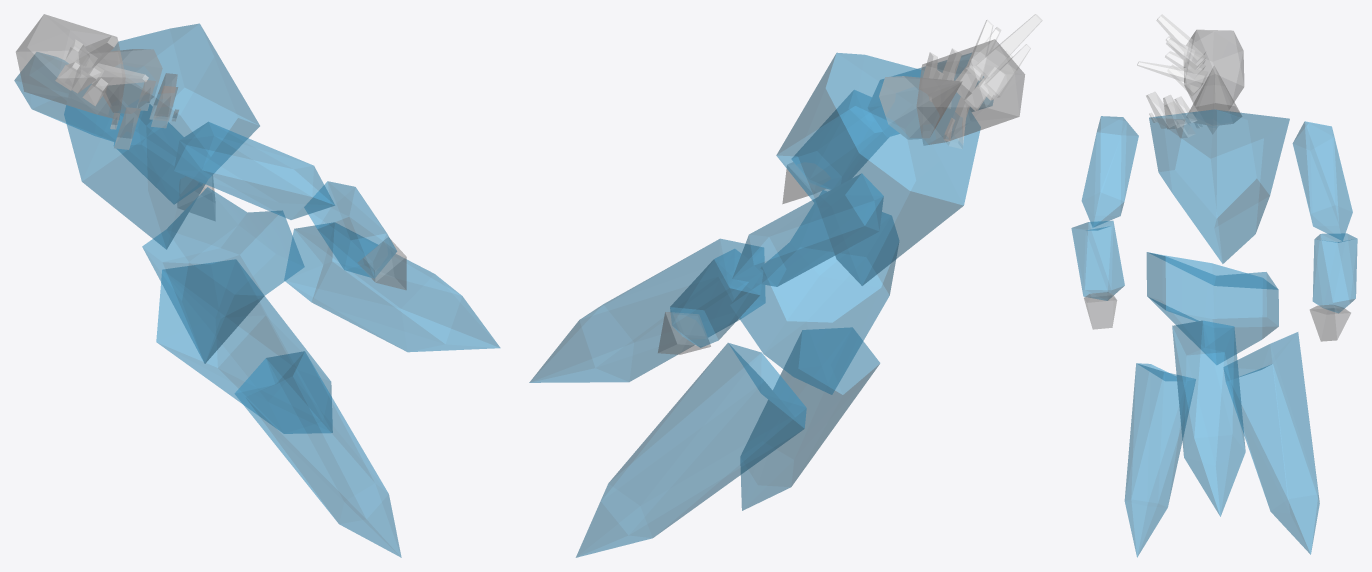
Rendered from ghostLunge.obj.
The picture shows the model from 3 angles, left to right: view 1: azimuth 30°, elevation 25°; view 2: azimuth 150°, elevation 25°; view 3: azimuth 270°, elevation 25°; orthographic projection. The views are drawn at different scales.
Parts seen in each view (by area): view 1: Cube.001_Cube.005, Icosphere.014, Cube_Cube.005, Icosphere.013, Icosphere.012, Icosphere.005_Icosphere.004, Icosphere.003_Icosphere.004, Icosphere.006_Icosphere.004, Icosphere.007_Icosphere.004, Icosphere.008_Icosphere.004, Cone_Cone.005, Cube.002_Cube.005 (+5 smaller); view 2: Cube.001_Cube.005, Icosphere.014, Cube_Cube.005, Icosphere.013, Icosphere.012, Icosphere.007_Icosphere.004, Icosphere.003_Icosphere.004, Icosphere.008_Icosphere.004, Icosphere.006_Icosphere.004, Cone_Cone.005, Cube.003_Cube.005, Cube.009_Cube.004 (+4 smaller); view 3: Cube.001_Cube.005, Icosphere.014, Icosphere.013, Cube_Cube.005, Icosphere.012, Icosphere.007_Icosphere.004, Icosphere.003_Icosphere.004, Icosphere.005_Icosphere.004, Icosphere.006_Icosphere.004, Icosphere.008_Icosphere.004, Cone_Cone.005, Cube.003_Cube.005 (+6 smaller).
Boxes of the visible parts, x1=… form: Cube.001_Cube.005: x1=64, y1=23, x2=259, y2=249; Icosphere.014: x1=156, y1=259, x2=332, y2=433; Cube_Cube.005: x1=142, y1=187, x2=304, y2=363; Icosphere.013: x1=284, y1=222, x2=500, y2=352; Icosphere.012: x1=234, y1=351, x2=401, y2=557; Icosphere.005_Icosphere.004: x1=174, y1=121, x2=334, y2=219; Icosphere.003_Icosphere.004: x1=16, y1=14, x2=125, y2=119; Icosphere.006_Icosphere.004: x1=304, y1=181, x2=396, y2=278; Icosphere.007_Icosphere.004: x1=14, y1=52, x2=140, y2=141; Icosphere.008_Icosphere.004: x1=114, y1=104, x2=202, y2=203; Cone_Cone.005: x1=99, y1=49, x2=162, y2=113; Cube.002_Cube.005: x1=358, y1=237, x2=406, y2=289; Cube.001_Cube.005: x1=776, y1=52, x2=980, y2=285; Icosphere.014: x1=576, y1=343, x2=806, y2=557; Cube_Cube.005: x1=730, y1=190, x2=898, y2=394; Icosphere.013: x1=529, y1=238, x2=765, y2=382; Icosphere.012: x1=740, y1=327, x2=879, y2=510; Icosphere.007_Icosphere.004: x1=732, y1=173, x2=883, y2=286; Icosphere.003_Icosphere.004: x1=916, y1=39, x2=1024, y2=145; Icosphere.008_Icosphere.004: x1=670, y1=249, x2=762, y2=347; Icosphere.006_Icosphere.004: x1=792, y1=90, x2=888, y2=189; Cone_Cone.005: x1=879, y1=76, x2=962, y2=139; Cube.003_Cube.005: x1=658, y1=312, x2=710, y2=354; Cube.009_Cube.004: x1=974, y1=14, x2=1042, y2=78; Cube.001_Cube.005: x1=1149, y1=109, x2=1289, y2=263; Icosphere.014: x1=1224, y1=332, x2=1319, y2=554; Icosphere.013: x1=1172, y1=320, x2=1245, y2=516; Cube_Cube.005: x1=1146, y1=252, x2=1278, y2=364; Icosphere.012: x1=1124, y1=363, x2=1195, y2=557; Icosphere.007_Icosphere.004: x1=1292, y1=121, x2=1352, y2=240; Icosphere.003_Icosphere.004: x1=1183, y1=29, x2=1244, y2=134; Icosphere.005_Icosphere.004: x1=1081, y1=116, x2=1138, y2=226; Icosphere.006_Icosphere.004: x1=1071, y1=220, x2=1124, y2=300; Icosphere.008_Icosphere.004: x1=1312, y1=233, x2=1357, y2=313; Cone_Cone.005: x1=1186, y1=66, x2=1241, y2=125; Cube.003_Cube.005: x1=1310, y1=305, x2=1350, y2=341.
Size of the model in its own units: 35.62 by 41.08 by 24.68.
